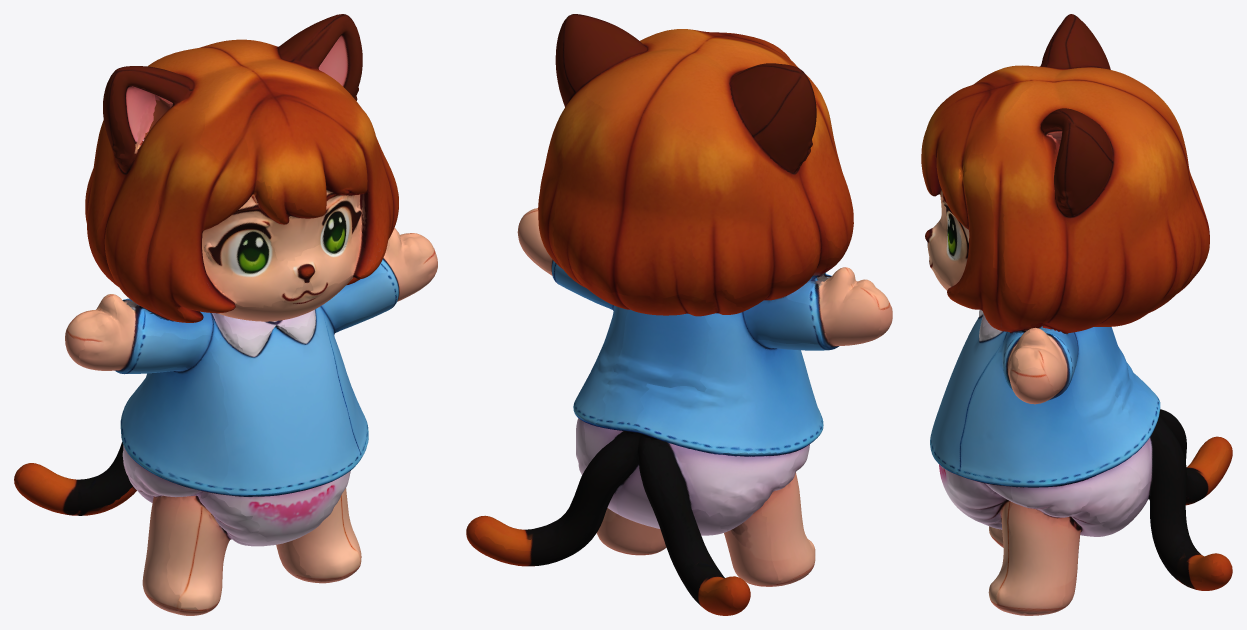
The model's file is cuppydoll.glb.
3 views of the same model, side by side, from view 1: azimuth 30°, elevation 25°; view 2: azimuth 150°, elevation 25°; view 3: azimuth 270°, elevation 25° (orthographic). The views are drawn at different scales.
Parts seen in each view (by area): view 1: temp_mesh.ply; view 2: temp_mesh.ply; view 3: temp_mesh.ply.
Boxes of the visible parts, left/top/right/bottom form: temp_mesh.ply: left=14, top=14, right=437, bottom=615; temp_mesh.ply: left=466, top=14, right=892, bottom=615; temp_mesh.ply: left=921, top=14, right=1232, bottom=615.
Bounding box in the file's own units: 1.41 × 1.97 × 1.09.
1 material, 1 textured.
